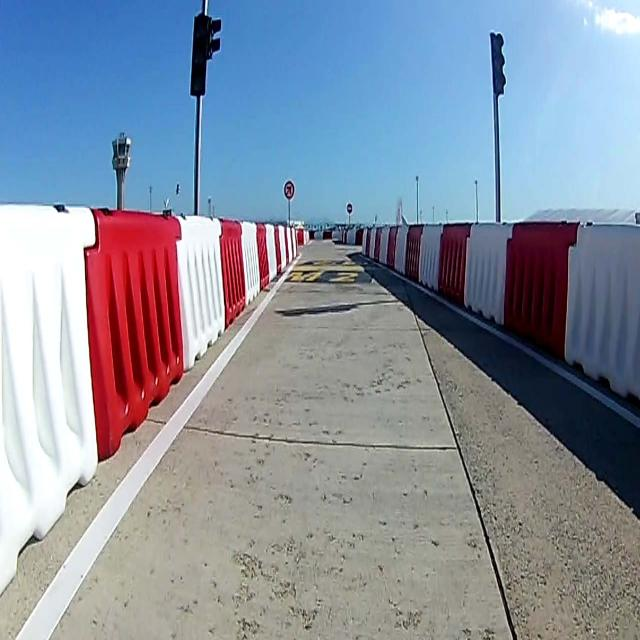girisyok: (347, 204, 352, 214)
soladonulmez: (284, 181, 294, 199)
